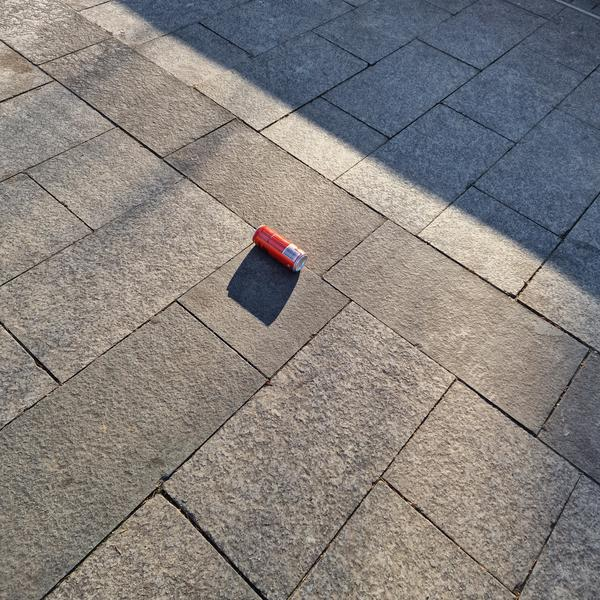can: (248, 220, 314, 276)
